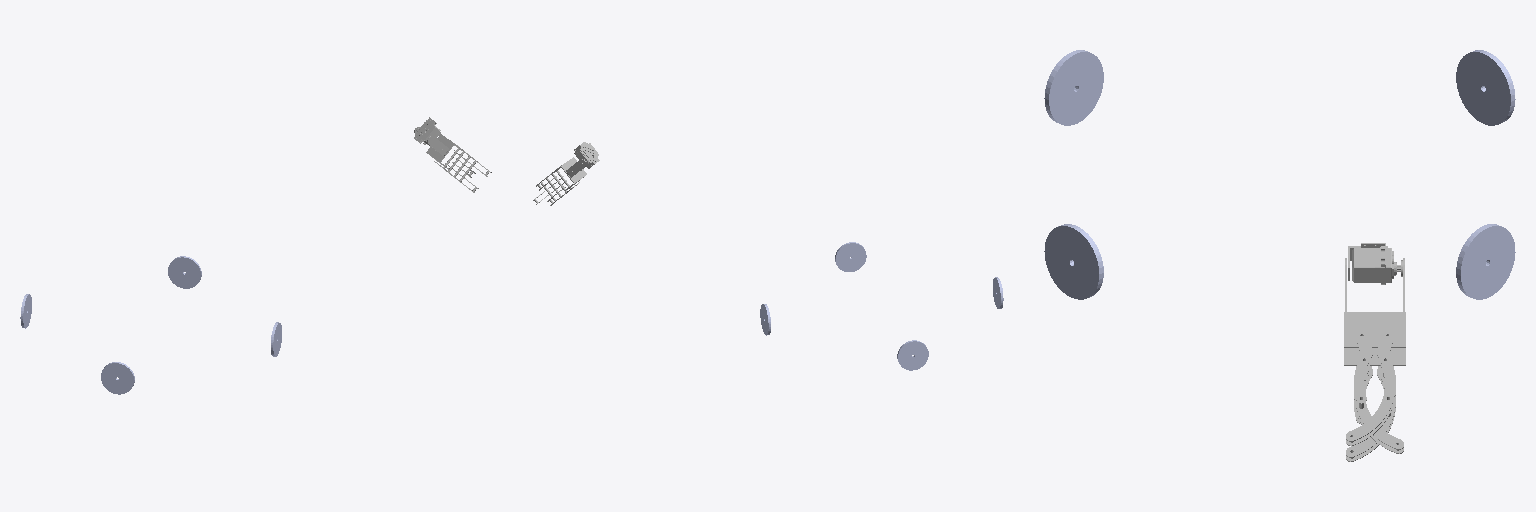
URDF robot description (homeplus_urdf):

<robot name="homeplus_urdf">
  <link name="world"/>
  <joint name="base_x" type="prismatic">
    <parent link="world"/>
    <child link="base_x_link"/>
    <origin xyz="0 0 0" rpy="0 0 0"/>
    <axis xyz="1 0 0"/>
    <limit lower="-10" upper="10" effort="1000" velocity="1"/>
  </joint>
  <link name="base_x_link"/>
  <joint name="base_y" type="prismatic">
    <parent link="base_x_link"/>
    <child link="base_y_link"/>
    <origin xyz="0 0 0" rpy="0 0 0"/>
    <axis xyz="0 1 0"/>
    <limit lower="-10" upper="10" effort="1000" velocity="1"/>
  </joint>
  <link name="base_y_link"/>
  <joint name="base_theta" type="continuous">
    <parent link="base_y_link"/>
    <child link="base"/>
    <origin xyz="0 0 0" rpy="0 0 0"/>
    <axis xyz="0 0 1"/>
    <limit effort="1000" velocity="1"/>
  </joint>
  
  <link
    name="base">
    <inertial>
      <origin
        xyz="5.36687302932215E-07 5.36687302016281E-07 0.0698335734039721"
        rpy="0 0 0" />
      <mass
        value="1.93599733287841" />
      <inertia
        ixx="0.00763024520313416"
        ixy="5.63522720337797E-07"
        ixz="3.13778475182127E-09"
        iyy="0.0075494508667239"
        iyz="-3.13792658746155E-09"
        izz="0.002529154108625" />
    </inertial>
    <visual>
      <origin
        xyz="0 0 0"
        rpy="0 0 0" />
      <geometry>
        <mesh
          filename="package://homeplus_urdf/meshes/base.STL" />
      </geometry>
      <material
        name="">
        <color
          rgba="0.752941176470588 0.752941176470588 0.752941176470588 1" />
      </material>
    </visual>
    <collision>
      <origin
        xyz="0 0 0"
        rpy="0 0 0" />
      <geometry>
        <mesh
          filename="package://homeplus_urdf/meshes/base.STL" />
      </geometry>
    </collision>
  </link>
  <link
    name="Frame">
    <inertial>
      <origin
        xyz="0.201896542252504 0.0799990907117468 -0.0342714033622259"
        rpy="0 0 0" />
      <mass
        value="3.29967833042039" />
      <inertia
        ixx="0.0339685155112727"
        ixy="2.44583411704262E-06"
        ixz="-0.00082022948549501"
        iyy="0.0344616286643939"
        iyz="4.66669657135815E-11"
        izz="0.00669916365911231" />
    </inertial>
    <visual>
      <origin
        xyz="0 0 0"
        rpy="0 0 0" />
      <geometry>
        <mesh
          filename="package://homeplus_urdf/meshes/Frame.STL" />
      </geometry>
      <material
        name="">
        <color
          rgba="0.752941176470588 0.752941176470588 0.752941176470588 1" />
      </material>
    </visual>
    <collision>
      <origin
        xyz="0 0 0"
        rpy="0 0 0" />
      <geometry>
        <mesh
          filename="package://homeplus_urdf/meshes/Frame.STL" />
      </geometry>
    </collision>
  </link>
  <joint
    name="JointFrame"
    type="prismatic">
    <origin
      xyz="-0.18 -0.08398 0.283"
      rpy="0 0 0" />
    <parent
      link="base" />
    <child
      link="Frame" />
    <axis
      xyz="0 0 1" />
    <limit
      lower="0"
      upper="0.15"
      effort="1"
      velocity="1" />
  </joint>
  <link
    name="Telescope">
    <inertial>
      <origin
        xyz="0.000771729775495889 0.000437143680824342 -0.104187938876505"
        rpy="0 0 0" />
      <mass
        value="0.251949298778275" />
      <inertia
        ixx="0.00285644942984616"
        ixy="8.99244714545801E-11"
        ixz="-1.6278133894529E-09"
        iyy="0.00286169389796737"
        iyz="9.5798002526495E-08"
        izz="3.17904819039154E-05" />
    </inertial>
    <visual>
      <origin
        xyz="0 0 0"
        rpy="0 0 0" />
      <geometry>
        <mesh
          filename="package://homeplus_urdf/meshes/Telescope.STL" />
      </geometry>
      <material
        name="">
        <color
          rgba="0.752941176470588 0.752941176470588 0.752941176470588 1" />
      </material>
    </visual>
    <collision>
      <origin
        xyz="0 0 0"
        rpy="0 0 0" />
      <geometry>
        <mesh
          filename="package://homeplus_urdf/meshes/Telescope.STL" />
      </geometry>
    </collision>
  </link>
  <joint
    name="JointTelescope"
    type="prismatic">
    <origin
      xyz="0.285 0.08398 0.477"
      rpy="0 0 0" />
    <parent
      link="Frame" />
    <child
      link="Telescope" />
    <axis
      xyz="0 0 1" />
    <limit
      lower="0"
      upper="0.43"
      effort="1"
      velocity="1" />
  </joint>
  <link
    name="Arm1">
    <inertial>
      <origin
        xyz="0.231608117533619 0.0255523612695389 -0.231607123025033"
        rpy="0 0 0" />
      <mass
        value="0.142458692559679" />
      <inertia
        ixx="0.000344048781743376"
        ixy="6.78781398843054E-08"
        ixz="0.000303370900150246"
        iyy="0.000670896160973874"
        iyz="-6.8032670316871E-08"
        izz="0.000344045727501834" />
    </inertial>
    <visual>
      <origin
        xyz="0 0 0"
        rpy="0 0 0" />
      <geometry>
        <mesh
          filename="package://homeplus_urdf/meshes/Arm1.STL" />
      </geometry>
      <material
        name="">
        <color
          rgba="0.752941176470588 0.752941176470588 0.752941176470588 1" />
      </material>
    </visual>
    <collision>
      <origin
        xyz="0 0 0"
        rpy="0 0 0" />
      <geometry>
        <mesh
          filename="package://homeplus_urdf/meshes/Arm1.STL" />
      </geometry>
    </collision>
  </link>
  <joint
    name="JointArm1"
    type="revolute">
    <origin
      xyz="0 0.027951 0.093587"
      rpy="0 0 0" />
    <parent
      link="Telescope" />
    <child
      link="Arm1" />
    <axis
      xyz="0 -1 0" />
    <limit
      lower="-0.7854"
      upper="2.4435"
      effort="1"
      velocity="1" />
  </joint>
  <link
    name="Arm2">
    <inertial>
      <origin
        xyz="0.229877453875047 -0.00821863334885756 -0.231410969608228"
        rpy="0 0 0" />
      <mass
        value="0.116165387072632" />
      <inertia
        ixx="0.000263865689307406"
        ixy="1.15597043757505E-09"
        ixz="0.000220534688604804"
        iyy="0.000506000074754496"
        iyz="1.00178635705143E-09"
        izz="0.000264057896540768" />
    </inertial>
    <visual>
      <origin
        xyz="0 0 0"
        rpy="0 0 0" />
      <geometry>
        <mesh
          filename="package://homeplus_urdf/meshes/Arm2.STL" />
      </geometry>
      <material
        name="">
        <color
          rgba="0.752941176470588 0.752941176470588 0.752941176470588 1" />
      </material>
    </visual>
    <collision>
      <origin
        xyz="0 0 0"
        rpy="0 0 0" />
      <geometry>
        <mesh
          filename="package://homeplus_urdf/meshes/Arm2.STL" />
      </geometry>
    </collision>
  </link>
  <joint
    name="JointArm2"
    type="revolute">
    <origin
      xyz="0.31439 0.0665 -0.31439"
      rpy="0 0 0" />
    <parent
      link="Arm1" />
    <child
      link="Arm2" />
    <axis
      xyz="0 -1 0" />
    <limit
      lower="-1.274"
      upper="2.932"
      effort="1"
      velocity="1" />
  </joint>
  <link
    name="Wrist">
    <inertial>
      <origin
        xyz="0.00821485527606913 0.00862941103056888 -0.00834029232738279"
        rpy="0 0 0" />
      <mass
        value="0.0363561056351056" />
      <inertia
        ixx="8.21468554621405E-06"
        ixy="1.10422688179401E-07"
        ixz="-2.10661583523176E-06"
        iyy="6.65835103821054E-06"
        iyz="-4.81256546213012E-08"
        izz="8.21542228204658E-06" />
    </inertial>
    <visual>
      <origin
        xyz="0 0 0"
        rpy="0 0 0" />
      <geometry>
        <mesh
          filename="package://homeplus_urdf/meshes/Wrist.STL" />
      </geometry>
      <material
        name="">
        <color
          rgba="0.752941176470588 0.752941176470588 0.752941176470588 1" />
      </material>
    </visual>
    <collision>
      <origin
        xyz="0 0 0"
        rpy="0 0 0" />
      <geometry>
        <mesh
          filename="package://homeplus_urdf/meshes/Wrist.STL" />
      </geometry>
    </collision>
  </link>
  <joint
    name="JointWrist"
    type="revolute">
    <origin
      xyz="0.28806 -0.0175 -0.32191"
      rpy="0 0 0" />
    <parent
      link="Arm2" />
    <child
      link="Wrist" />
    <axis
      xyz="0.70711 0 -0.70711" />
    <limit
      lower="-1.396"
      upper="1.396"
      effort="1"
      velocity="1" />
  </joint>
  <link
    name="Hand">
    <inertial>
      <origin
        xyz="0.0360909126870599 -0.0235637345554119 -0.036090912687017"
        rpy="0 0 0" />
      <mass
        value="0.0198930486204882" />
      <inertia
        ixx="1.2451533035291E-05"
        ixy="-6.44244955922808E-19"
        ixz="-7.36497990245303E-07"
        iyy="9.95405369555553E-06"
        iyz="4.69179038678503E-19"
        izz="1.24515330352891E-05" />
    </inertial>
    <visual>
      <origin
        xyz="0 0 0"
        rpy="0 0 0" />
      <geometry>
        <mesh
          filename="package://homeplus_urdf/meshes/Hand.STL" />
      </geometry>
      <material
        name="">
        <color
          rgba="0.752941176470588 0.752941176470588 0.752941176470588 1" />
      </material>
    </visual>
    <collision>
      <origin
        xyz="0 0 0"
        rpy="0 0 0" />
      <geometry>
        <mesh
          filename="package://homeplus_urdf/meshes/Hand.STL" />
      </geometry>
    </collision>
  </link>
  <joint
    name="JointHand"
    type="revolute">
    <origin
      xyz="0.0026623 0.035169 -0.015015"
      rpy="0 0 0" />
    <parent
      link="Wrist" />
    <child
      link="Hand" />
    <axis
      xyz="0 -1 0" />
    <limit
      lower="-1.571"
      upper="1.309"
      effort="1"
      velocity="1" />
  </joint>
  <link
    name="FingerL">
    <inertial>
      <origin
        xyz="0.0218255753338862 -0.00724008001230267 -0.0593022347367217"
        rpy="0 0 0" />
      <mass
        value="0.00826272704567777" />
      <inertia
        ixx="3.91242754529497E-06"
        ixy="1.16329023022E-06"
        ixz="2.94673322850978E-06"
        iyy="6.02166319912774E-06"
        iyz="-1.16329023021855E-06"
        izz="3.91242754530252E-06" />
    </inertial>
    <visual>
      <origin
        xyz="0 0 0"
        rpy="0 0 0" />
      <geometry>
        <mesh
          filename="package://homeplus_urdf/meshes/FingerL.STL" />
      </geometry>
      <material
        name="">
        <color
          rgba="0.752941176470588 0.752941176470588 0.752941176470588 1" />
      </material>
    </visual>
    <collision>
      <origin
        xyz="0 0 0"
        rpy="0 0 0" />
      <geometry>
        <mesh
          filename="package://homeplus_urdf/meshes/FingerL.STL" />
      </geometry>
    </collision>
  </link>
  <joint
    name="JointFingerL"
    type="revolute">
    <origin
      xyz="0.071418 -0.012 -0.036062"
      rpy="0 0 0" />
    <parent
      link="Hand" />
    <child
      link="FingerL" />
    <axis
      xyz="0.70711 0 0.70711" />
    <limit
      lower="0"
      upper="1.5708"
      effort="1"
      velocity="1" />
  </joint>
  <link
    name="FingerR">
    <inertial>
      <origin
        xyz="0.0163533589374076 0.00457292966685408 -0.053830018340248"
        rpy="0 0 0" />
      <mass
        value="0.00654686444830018" />
      <inertia
        ixx="1.8640335430842E-06"
        ixy="-4.46804795842902E-07"
        ixz="1.35953847821751E-06"
        iyy="2.79431749639908E-06"
        iyz="4.46804795842274E-07"
        izz="1.86403354308785E-06" />
    </inertial>
    <visual>
      <origin
        xyz="0 0 0"
        rpy="0 0 0" />
      <geometry>
        <mesh
          filename="package://homeplus_urdf/meshes/FingerR.STL" />
      </geometry>
      <material
        name="">
        <color
          rgba="0.752941176470588 0.752941176470588 0.752941176470588 1" />
      </material>
    </visual>
    <collision>
      <origin
        xyz="0 0 0"
        rpy="0 0 0" />
      <geometry>
        <mesh
          filename="package://homeplus_urdf/meshes/FingerR.STL" />
      </geometry>
    </collision>
  </link>
  <joint
    name="JointFingerR"
    type="revolute">
    <origin
      xyz="0.071418 -0.036 -0.036062"
      rpy="0 0 0" />
    <parent
      link="Hand" />
    <child
      link="FingerR" />
    <axis
      xyz="-0.70711 0 -0.70711" />
    <limit
      lower="0"
      upper="1.5708"
      effort="1"
      velocity="1" />
    <mimic
      joint="JointFingerL"
      multiplier="1"
      offset="0" />
  </joint>
  <link
    name="WheelFL">
    <inertial>
      <origin
        xyz="-0.00221199790886903 -0.00203064277825026 -2.08166817117217E-17"
        rpy="0 0 0" />
      <mass
        value="0.024229926039893" />
      <inertia
        ixx="1.19080621671214E-05"
        ixy="3.92089420362736E-06"
        ixz="-5.75732396144862E-21"
        iyy="1.19080621671214E-05"
        iyz="-4.47858125197631E-21"
        izz="7.98716796349408E-06" />
    </inertial>
    <visual>
      <origin
        xyz="0 0 0"
        rpy="0 0 0" />
      <geometry>
        <mesh
          filename="package://homeplus_urdf/meshes/WheelFL.STL" />
      </geometry>
      <material
        name="">
        <color
          rgba="0.792156862745098 0.819607843137255 0.933333333333333 1" />
      </material>
    </visual>
    <collision>
      <origin
        xyz="0 0 0"
        rpy="0 0 0" />
      <geometry>
        <mesh
          filename="package://homeplus_urdf/meshes/WheelFL.STL" />
      </geometry>
    </collision>
  </link>
  <joint
    name="JointWheelFL"
    type="continuous">
    <origin
      xyz="0.19317 0.19299 -0.033"
      rpy="0 0 0" />
    <parent
      link="base" />
    <child
      link="WheelFL" />
    <axis
      xyz="0.70711 0.70711 0" />
    <limit
      effort="1"
      velocity="1" />
  </joint>
  <link
    name="WheelFR">
    <inertial>
      <origin
        xyz="-0.00212132034355968 0.00212132034355966 6.93889390390723E-18"
        rpy="0 0 0" />
      <mass
        value="0.024229926039893" />
      <inertia
        ixx="1.19080621671215E-05"
        ixy="-3.92089420362737E-06"
        ixz="1.64880775117558E-21"
        iyy="1.19080621671215E-05"
        iyz="-1.5934710140752E-21"
        izz="7.9871679634941E-06" />
    </inertial>
    <visual>
      <origin
        xyz="0 0 0"
        rpy="0 0 0" />
      <geometry>
        <mesh
          filename="package://homeplus_urdf/meshes/WheelFR.STL" />
      </geometry>
      <material
        name="">
        <color
          rgba="0.792156862745098 0.819607843137255 0.933333333333333 1" />
      </material>
    </visual>
    <collision>
      <origin
        xyz="0 0 0"
        rpy="0 0 0" />
      <geometry>
        <mesh
          filename="package://homeplus_urdf/meshes/WheelFR.STL" />
      </geometry>
    </collision>
  </link>
  <joint
    name="JointWheelFR"
    type="continuous">
    <origin
      xyz="0.19308 -0.19308 -0.033"
      rpy="0 0 0" />
    <parent
      link="base" />
    <child
      link="WheelFR" />
    <axis
      xyz="-0.70711 0.70711 0" />
    <limit
      effort="1"
      velocity="1" />
  </joint>
  <link
    name="WheelBL">
    <inertial>
      <origin
        xyz="0.00212132034355966 -0.00212132034355965 -6.93889390390723E-18"
        rpy="0 0 0" />
      <mass
        value="0.0242299260398929" />
      <inertia
        ixx="1.19080621671214E-05"
        ixy="-3.92089420362736E-06"
        ixz="-6.89559011753301E-21"
        iyy="1.19080621671215E-05"
        iyz="5.66640417014397E-21"
        izz="7.98716796349408E-06" />
    </inertial>
    <visual>
      <origin
        xyz="0 0 0"
        rpy="0 0 0" />
      <geometry>
        <mesh
          filename="package://homeplus_urdf/meshes/WheelBL.STL" />
      </geometry>
      <material
        name="">
        <color
          rgba="0.792156862745098 0.819607843137255 0.933333333333333 1" />
      </material>
    </visual>
    <collision>
      <origin
        xyz="0 0 0"
        rpy="0 0 0" />
      <geometry>
        <mesh
          filename="package://homeplus_urdf/meshes/WheelBL.STL" />
      </geometry>
    </collision>
  </link>
  <joint
    name="JointWheelBL"
    type="continuous">
    <origin
      xyz="-0.19308 0.19308 -0.033"
      rpy="0 0 0" />
    <parent
      link="base" />
    <child
      link="WheelBL" />
    <axis
      xyz="-0.70711 0.70711 0" />
    <limit
      effort="1"
      velocity="1" />
  </joint>
  <link
    name="WheelBR">
    <inertial>
      <origin
        xyz="0.00212132034355966 0.00212132034355961 0"
        rpy="0 0 0" />
      <mass
        value="0.0242299260398931" />
      <inertia
        ixx="1.19080621671215E-05"
        ixy="3.92089420362738E-06"
        ixz="-1.37844200497226E-22"
        iyy="1.19080621671215E-05"
        iyz="-1.37844200497228E-22"
        izz="7.98716796349412E-06" />
    </inertial>
    <visual>
      <origin
        xyz="0 0 0"
        rpy="0 0 0" />
      <geometry>
        <mesh
          filename="package://homeplus_urdf/meshes/WheelBR.STL" />
      </geometry>
      <material
        name="">
        <color
          rgba="0.792156862745098 0.819607843137255 0.933333333333333 1" />
      </material>
    </visual>
    <collision>
      <origin
        xyz="0 0 0"
        rpy="0 0 0" />
      <geometry>
        <mesh
          filename="package://homeplus_urdf/meshes/WheelBR.STL" />
      </geometry>
    </collision>
  </link>
  <joint
    name="JointWheelBR"
    type="continuous">
    <origin
      xyz="-0.193081475451951 -0.193081475451951 -0.033"
      rpy="0 0 0" />
    <parent
      link="base" />
    <child
      link="WheelBR" />
    <axis
      xyz="0.707106781186548 0.707106781186547 0" />
    <limit
      effort="1"
      velocity="1" />
  </joint>
</robot>

--- Render facts (derived) ---
The picture shows the robot from 3 angles, left to right: view 1: azimuth 30°, elevation 25°; view 2: azimuth 150°, elevation 25°; view 3: azimuth 270°, elevation 25°; orthographic projection.
Model homeplus_urdf with 16 links and 15 joints (6 revolute, 5 continuous, 4 prismatic), rooted at world, posed all joints at 0.
Links seen in each view (by area): view 1: WheelBR, WheelFL, Hand; view 2: WheelBL, WheelFR; view 3: WheelFL, WheelFR, WheelBR, WheelBL, Hand, FingerL, Wrist, FingerR.
Link boxes in pixels (x1,y1,x2,y2): WheelBR: (101,362,134,394); WheelFL: (168,256,201,288); Hand: (414,127,463,169); WheelBL: (897,340,928,370); WheelFR: (835,242,866,271); WheelFL: (1456,224,1515,299); WheelFR: (1044,224,1103,299); WheelBR: (1044,50,1103,125); WheelBL: (1456,50,1515,125); Hand: (1344,258,1405,365); FingerL: (1346,330,1395,461); Wrist: (1348,243,1400,284); FingerR: (1354,330,1403,453).
Bounding box of the posed robot: 1.07 × 0.4371 × 0.3056 m (x, y, z).
Meshes: 13 distinct files referenced, 8 mesh visuals loaded (8 binary STL); not drawn: 5 (reference not matched to a file when rendering).